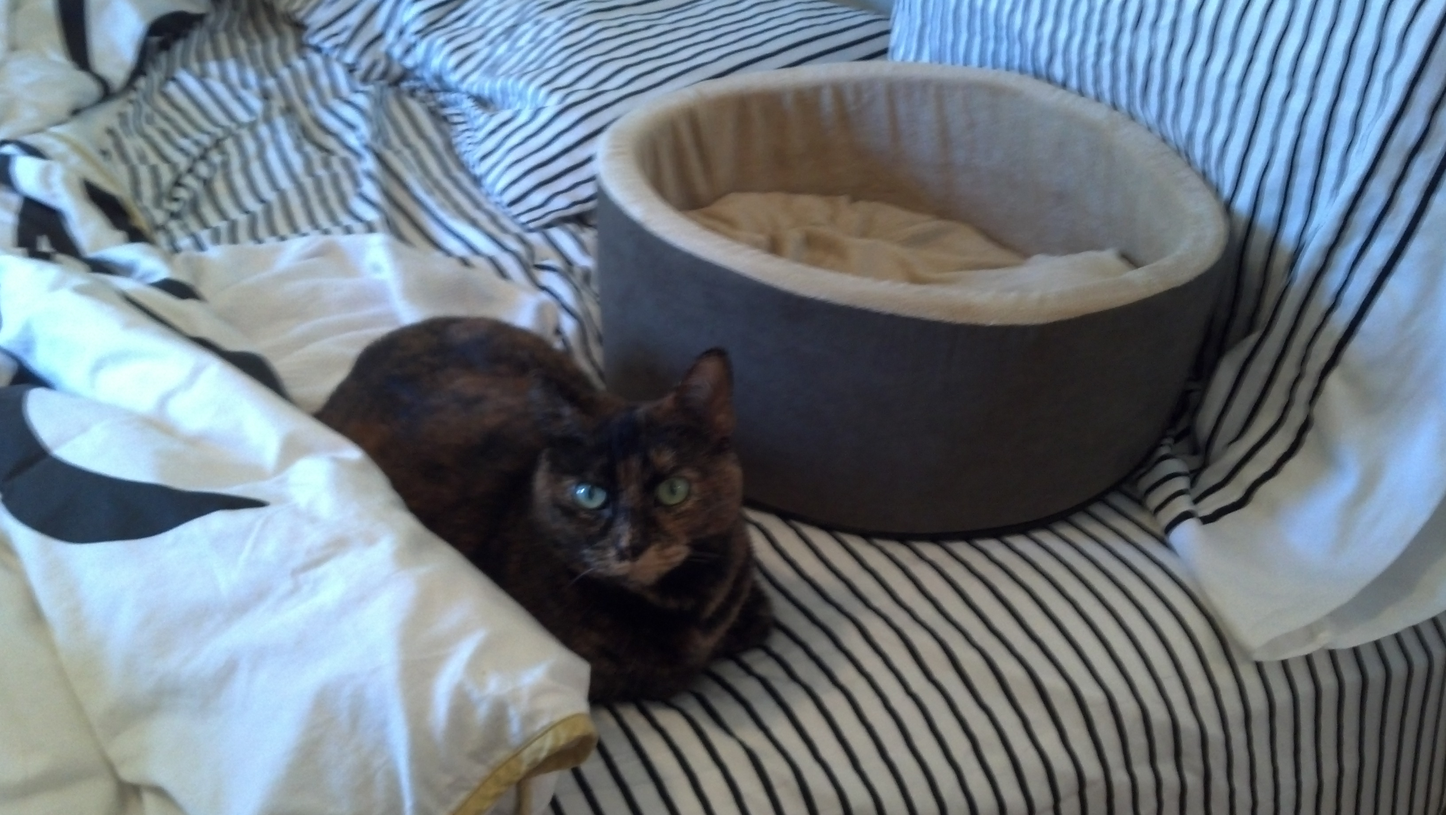cat: (323, 313, 781, 717)
